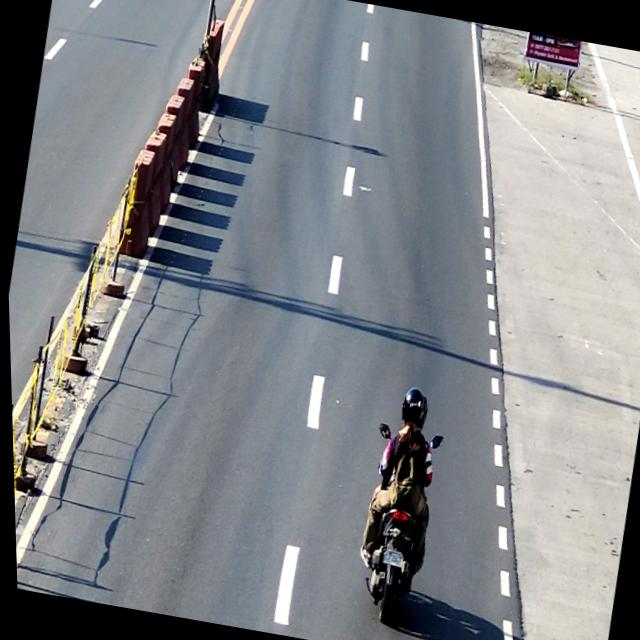License-Plate: (378, 546, 402, 566)
Motorcycle: (342, 419, 447, 632)
